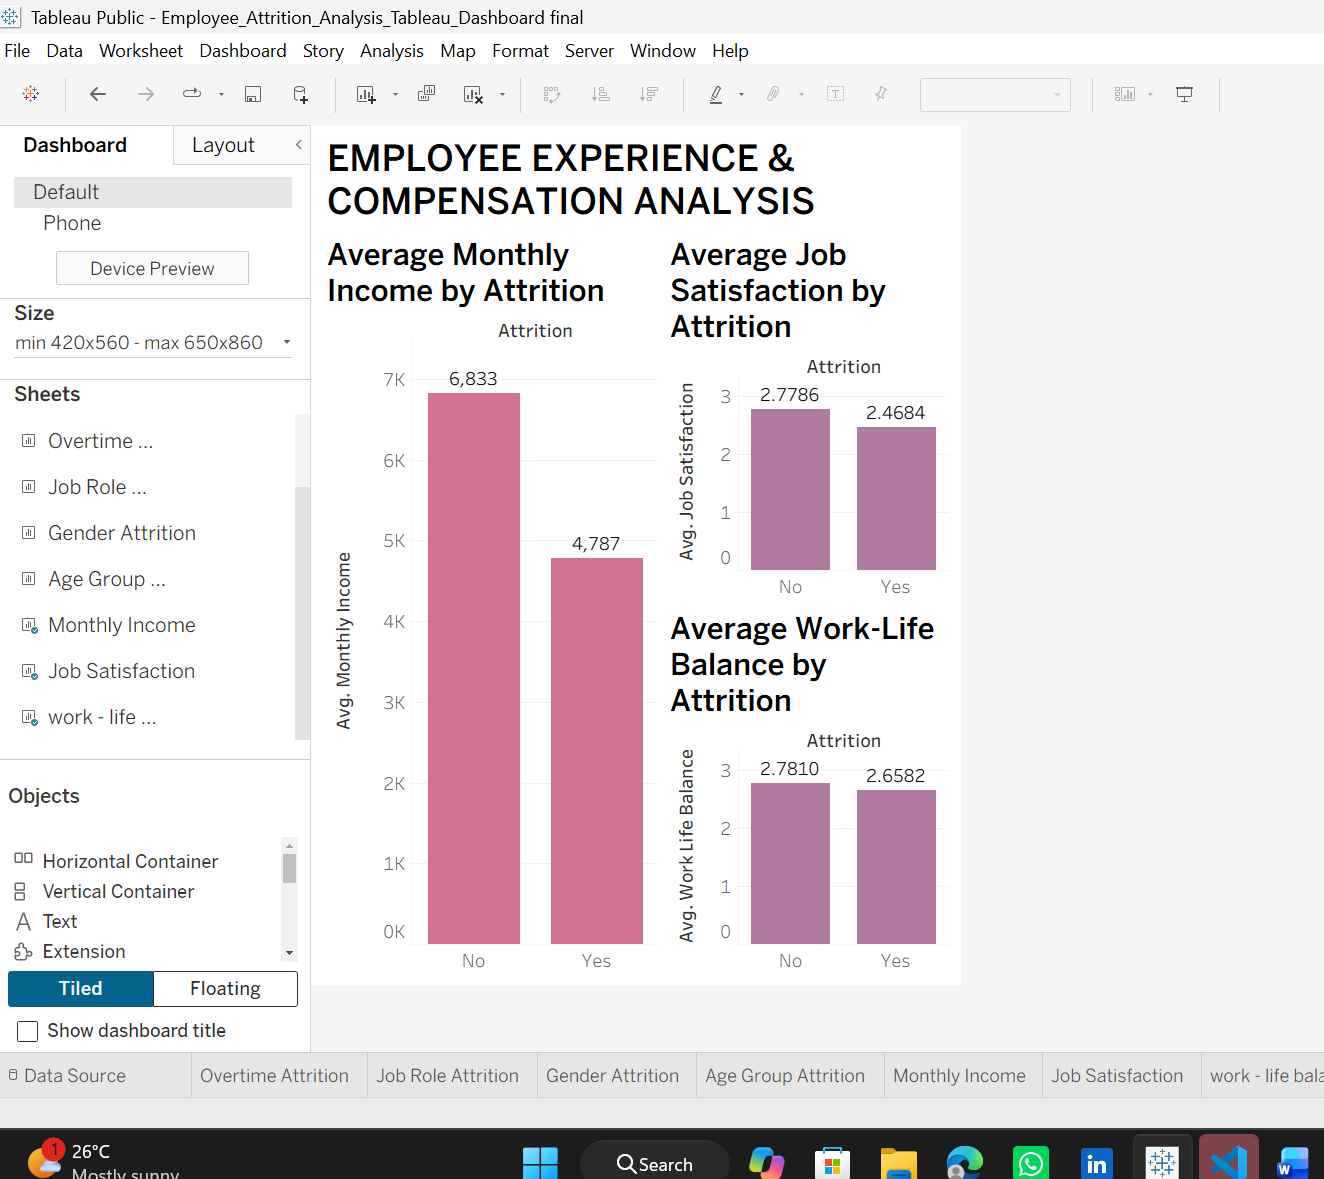

Layout of this report page (visuals, bound fields, positions):
{"tool":"tableau","page":{"name":"Dashboard 3","canvas":[650,860],"ordinal":2},"visuals":[{"type":"title","box":[8,8,634,96]},{"type":"worksheet","title":"Monthly Income","mark":"Automatic","rows":["MonthlyIncome"],"cols":["Attrition"],"box":[8,104,343,748]},{"type":"worksheet","title":"Job Satisfaction","mark":"Automatic","rows":["JobSatisfaction"],"cols":["Attrition"],"box":[351,104,291,374]},{"type":"worksheet","title":"work - life balance","mark":"Automatic","rows":["WorkLifeBalance"],"cols":["Attrition"],"box":[351,478,291,374]}]}

Visuals, with their boxes on the page's 650x860 design canvas (x1, y1, x2, y2). These are canvas units, not pixel positions in the 1324x1179 screenshot, which may show the page scaled, cropped or inside an application window:
title: {"x1": 8, "y1": 8, "x2": 642, "y2": 104}
"Monthly Income" worksheet: {"x1": 8, "y1": 104, "x2": 351, "y2": 852}
"Job Satisfaction" worksheet: {"x1": 351, "y1": 104, "x2": 642, "y2": 478}
"work - life balance" worksheet: {"x1": 351, "y1": 478, "x2": 642, "y2": 852}
